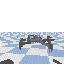drone: (17, 35, 55, 53)
